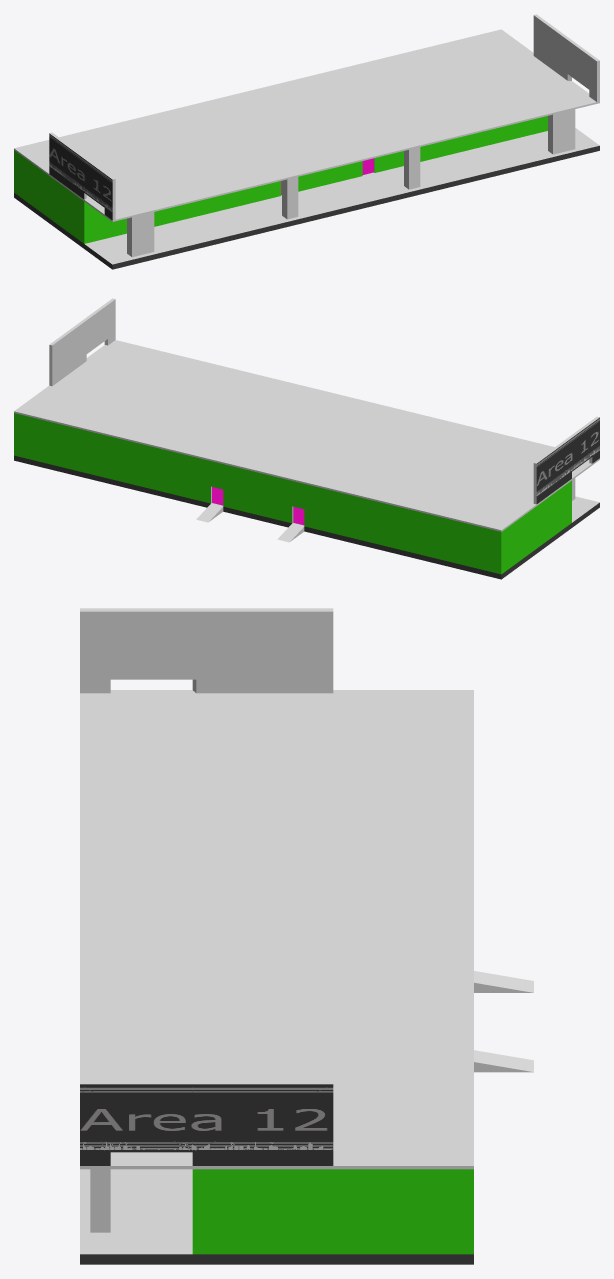
Rendered from Area12_TrainStation.fbx.
The picture shows the model from 3 angles, top to bottom: view 1: azimuth 30°, elevation 25°; view 2: azimuth 150°, elevation 25°; view 3: azimuth 270°, elevation 25°; orthographic projection. The views are drawn at different scales.
Visible parts, largest first — view 1: TrainStationBody; view 2: TrainStationBody; view 3: TrainStationBody.
Part boxes in pixels (x1,y1,x2,y2): TrainStationBody: (14,14,599,269); TrainStationBody: (14,298,599,579); TrainStationBody: (80,608,533,1264).
Bounding box in the file's own units: 60 × 24.2 × 10.6.
